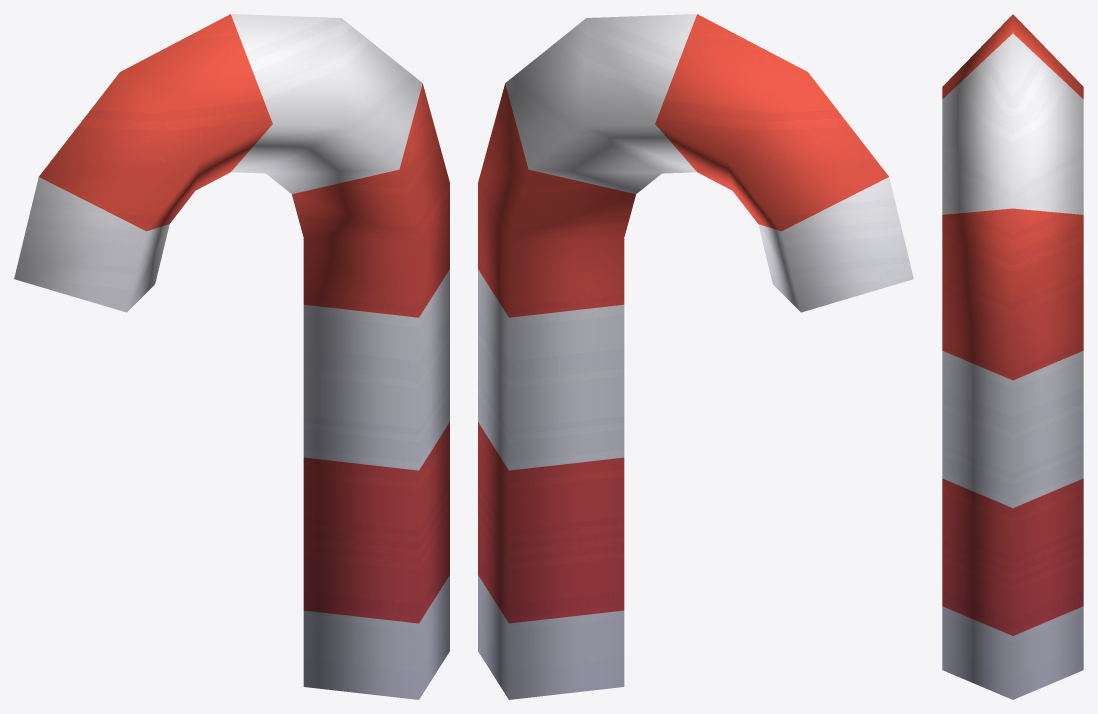
Rendered from candy-cane-red.glb.
3 views of the same model, side by side, from view 1: azimuth 30°, elevation 25°; view 2: azimuth 150°, elevation 25°; view 3: azimuth 270°, elevation 25° (orthographic). The views are drawn at different scales.
Visible parts, largest first — view 1: candy-cane-red; view 2: candy-cane-red; view 3: candy-cane-red.
Part boxes in pixels (box(x1,y1,x2,y2)): candy-cane-red: box(14, 14, 449, 699); candy-cane-red: box(478, 14, 913, 699); candy-cane-red: box(942, 14, 1083, 699).
Bounding box in the file's own units: 0.2983 × 0.4518 × 0.1.
Materials: 1 (1 with a texture image).
